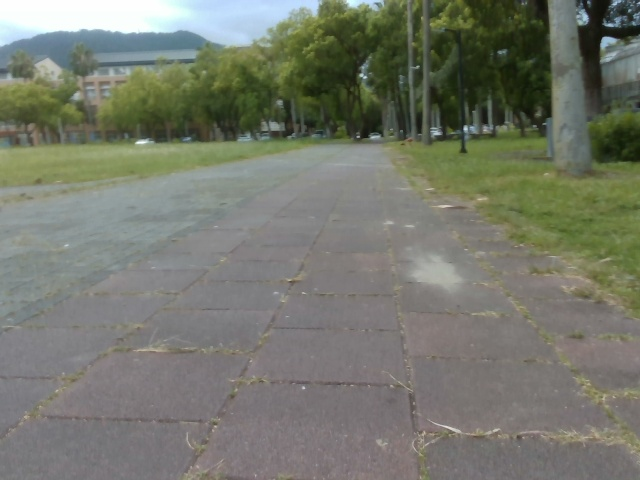grass: (0, 0, 639, 175), (379, 130, 639, 312), (0, 137, 354, 200)
road: (0, 144, 639, 479)
